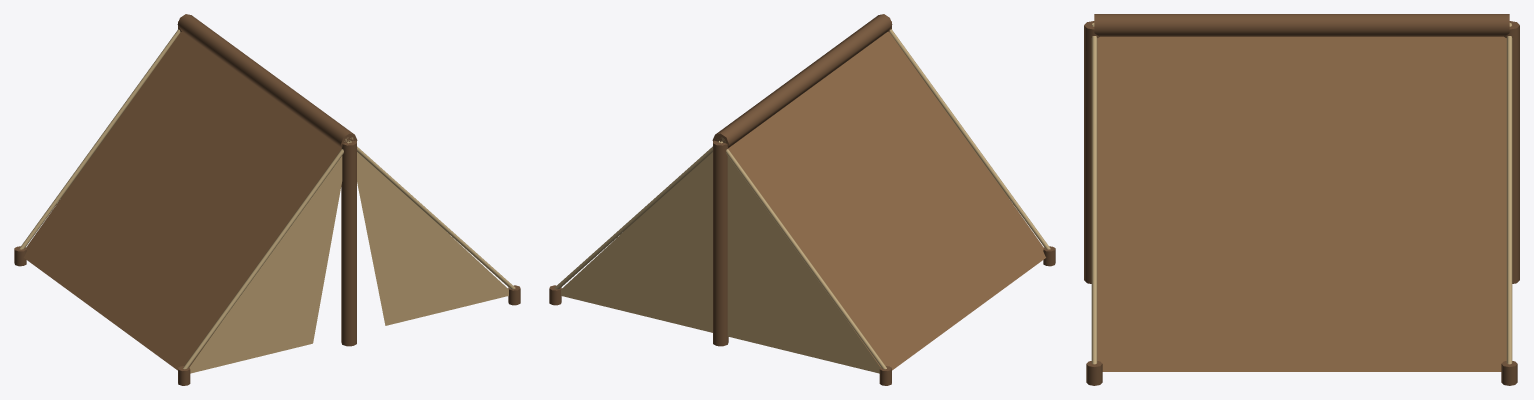
File: tent_ready.glb
3 views of the same model, side by side, from view 1: azimuth 30°, elevation 25°; view 2: azimuth 150°, elevation 25°; view 3: azimuth 270°, elevation 25° (orthographic). The views are drawn at different scales.
Visible parts, largest first — view 1: batch_tent_ready_2, batch_tent_ready_3, batch_tent_ready_0, batch_tent_ready_1; view 2: batch_tent_ready_2, batch_tent_ready_3, batch_tent_ready_0, batch_tent_ready_1; view 3: batch_tent_ready_2, batch_tent_ready_0, batch_tent_ready_1.
Part boxes in pixels (left/top/right/bottom): batch_tent_ready_2: left=24, top=32, right=341, bottom=370; batch_tent_ready_3: left=189, top=152, right=508, bottom=373; batch_tent_ready_0: left=14, top=14, right=520, bottom=385; batch_tent_ready_1: left=19, top=29, right=515, bottom=369; batch_tent_ready_2: left=728, top=32, right=1045, bottom=370; batch_tent_ready_3: left=561, top=152, right=880, bottom=373; batch_tent_ready_0: left=549, top=14, right=1055, bottom=385; batch_tent_ready_1: left=554, top=29, right=1050, bottom=369; batch_tent_ready_2: left=1097, top=36, right=1506, bottom=371; batch_tent_ready_0: left=1084, top=14, right=1519, bottom=385; batch_tent_ready_1: left=1091, top=23, right=1512, bottom=364.
Bounding box in the file's own units: 2.17 × 1.27 × 1.89.
